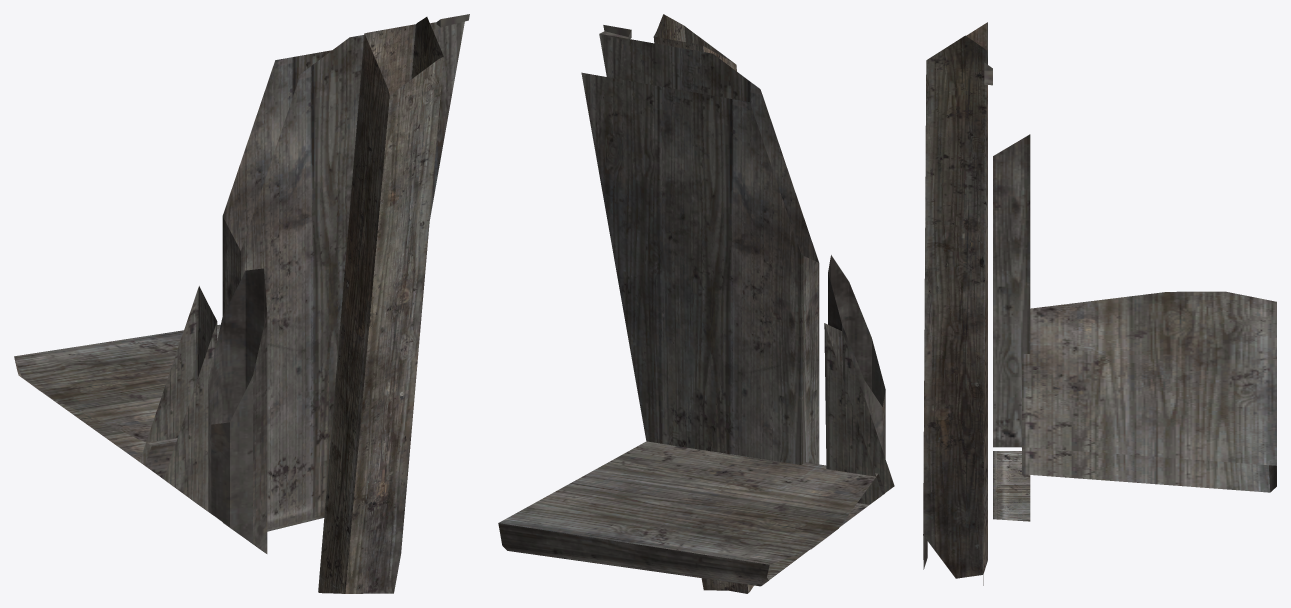
The model's file is Wagon3_24.fbx.
3 views of the same model, side by side, from view 1: azimuth 30°, elevation 25°; view 2: azimuth 150°, elevation 25°; view 3: azimuth 270°, elevation 25° (orthographic). The views are drawn at different scales.
Parts seen in each view (by area): view 1: SM_Wagon03_DM.024; view 2: SM_Wagon03_DM.024; view 3: SM_Wagon03_DM.024.
Part boxes in pixels (x1,y1,x2,y2): SM_Wagon03_DM.024: [14, 14, 469, 593]; SM_Wagon03_DM.024: [498, 14, 894, 593]; SM_Wagon03_DM.024: [923, 22, 1276, 585].
Size of the model in its own units: 4812 by 7938 by 4362.
